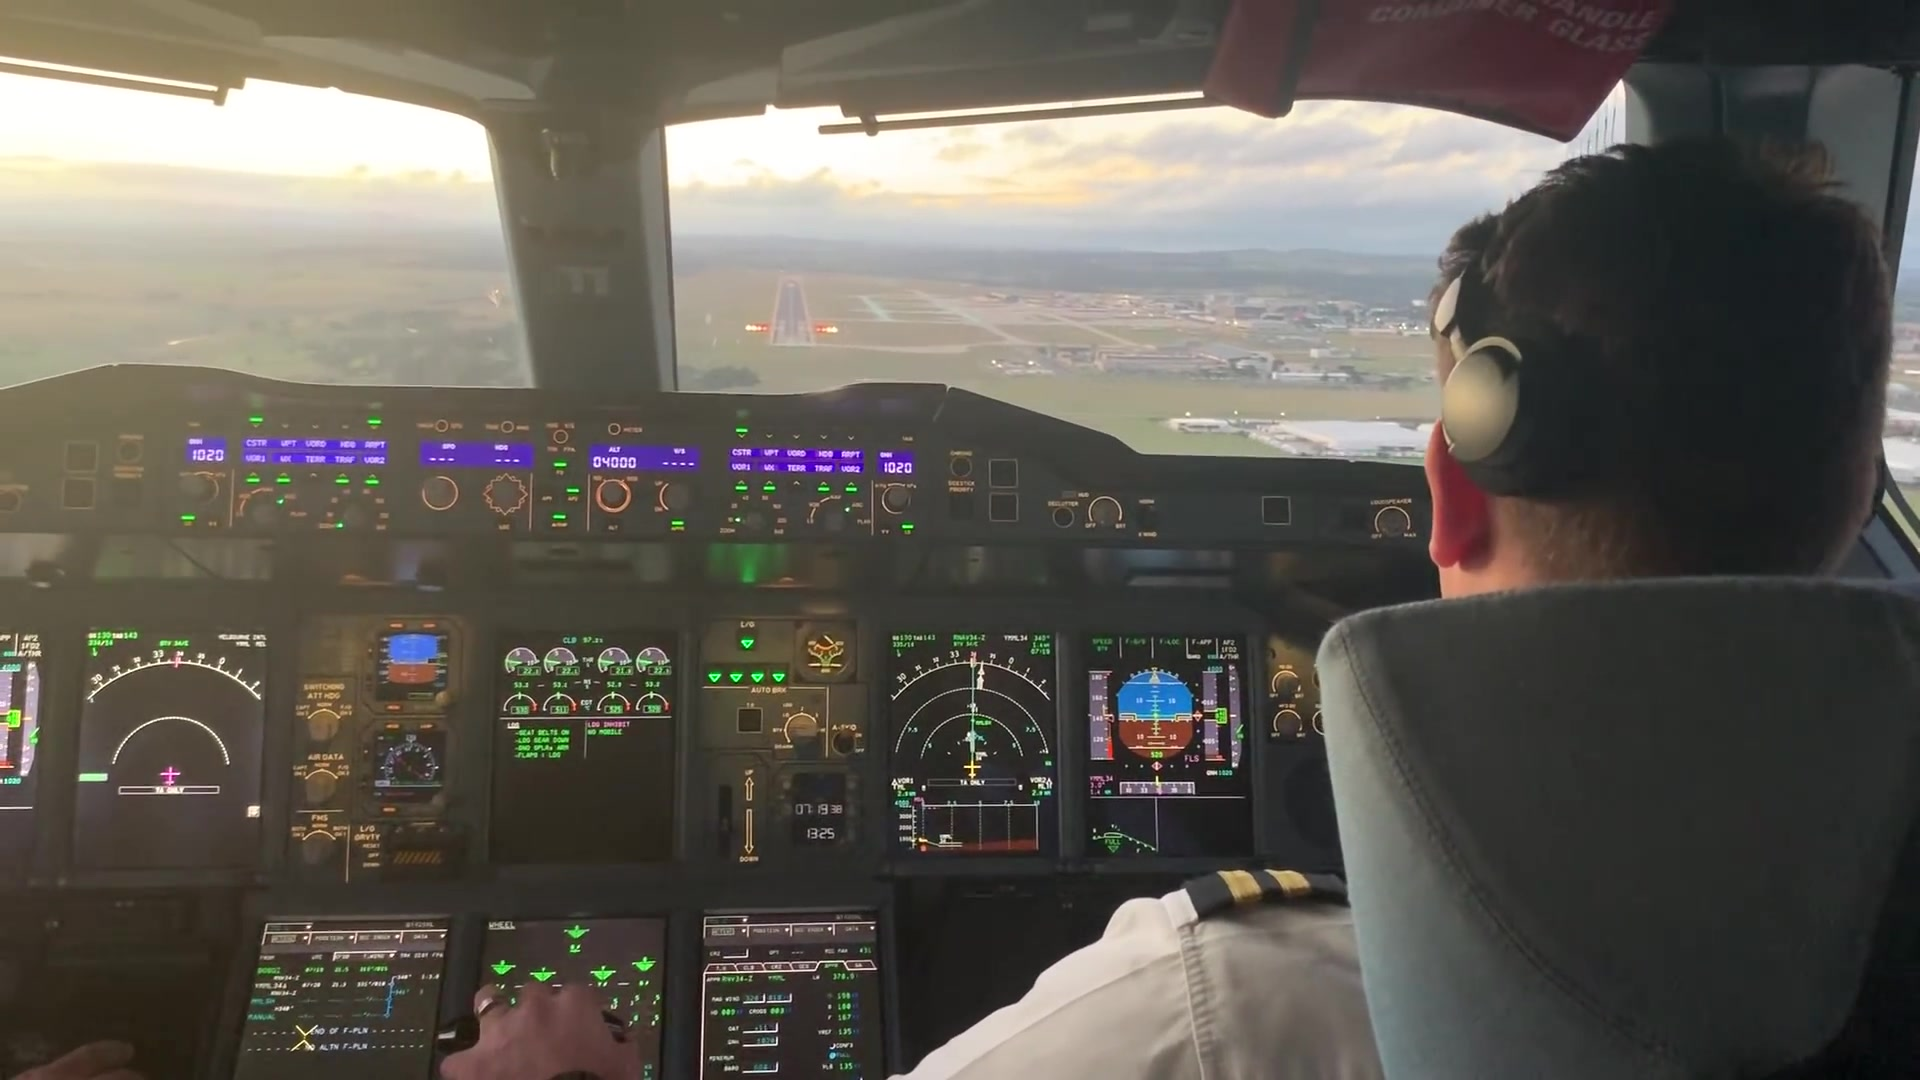runway: (769, 280, 816, 349)
